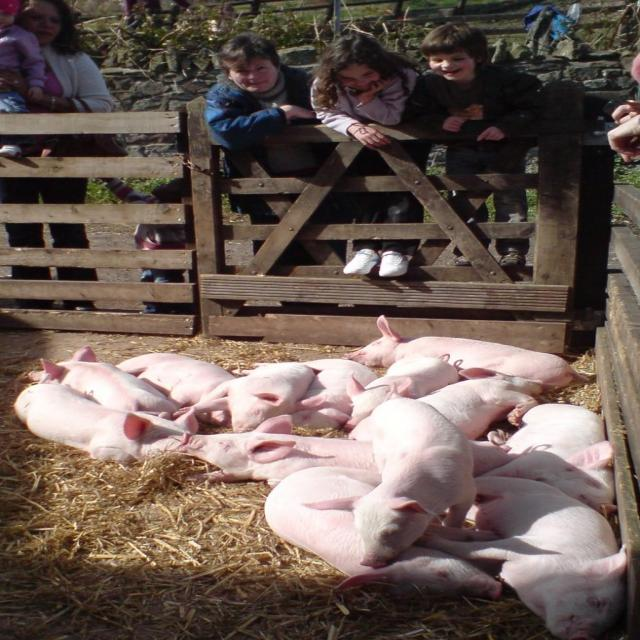Pig: (12, 313, 628, 639)
